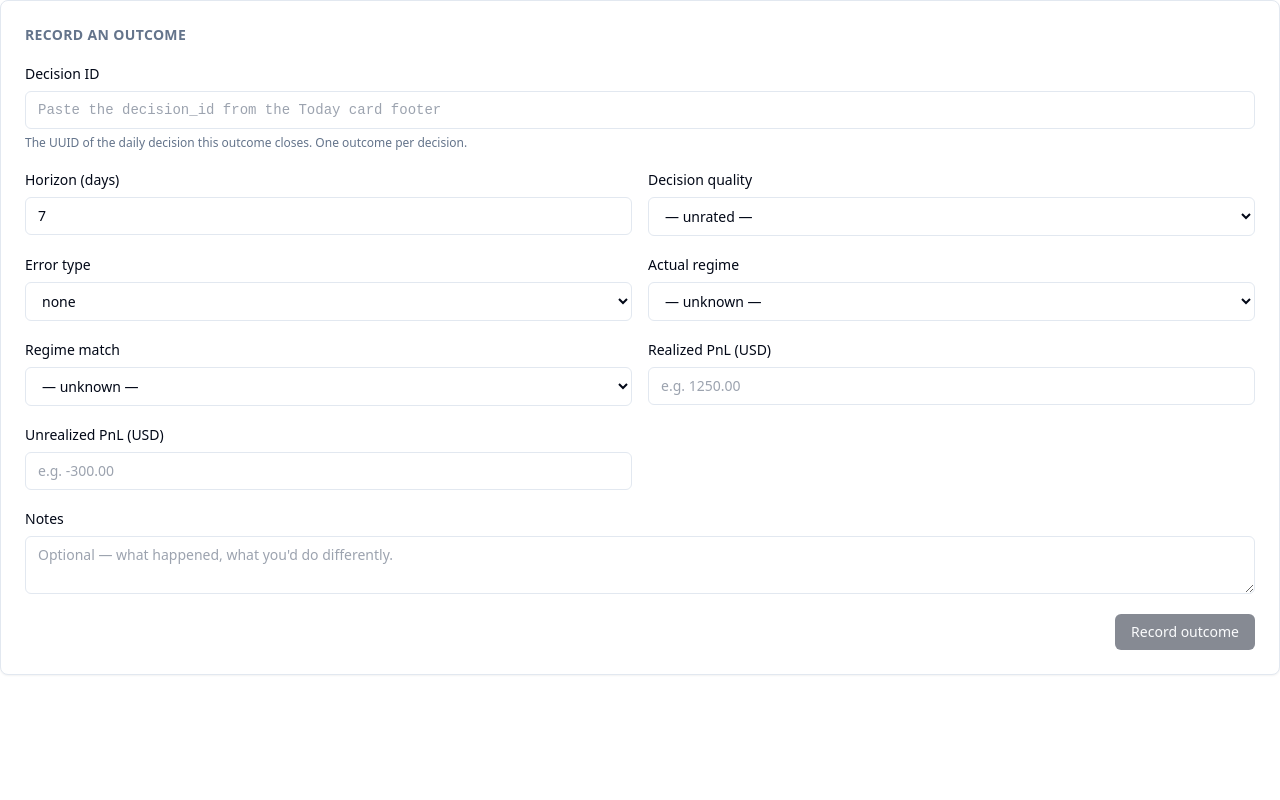
Test case: OutcomeEntryForm › surfaces the error message when the create fails
This screenshot has width=1280, height=800.
Type "aaaaaaaa-aaaa-aaaa-aaaa-aaaaaaaaaaaa" into the field with test id "field-new-daily_decision_id" at (640, 110), box [25,91,1255,129]
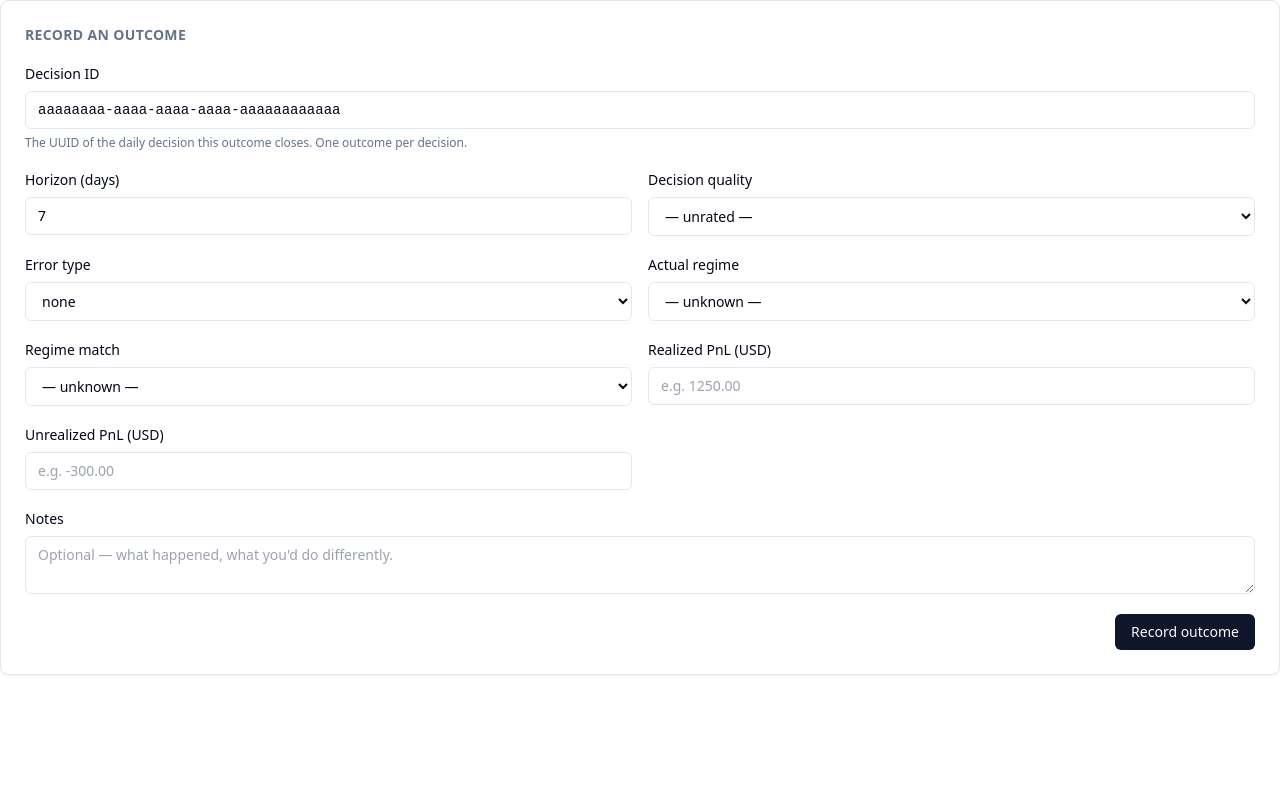
Submit the form with test id "outcome-entry-form"
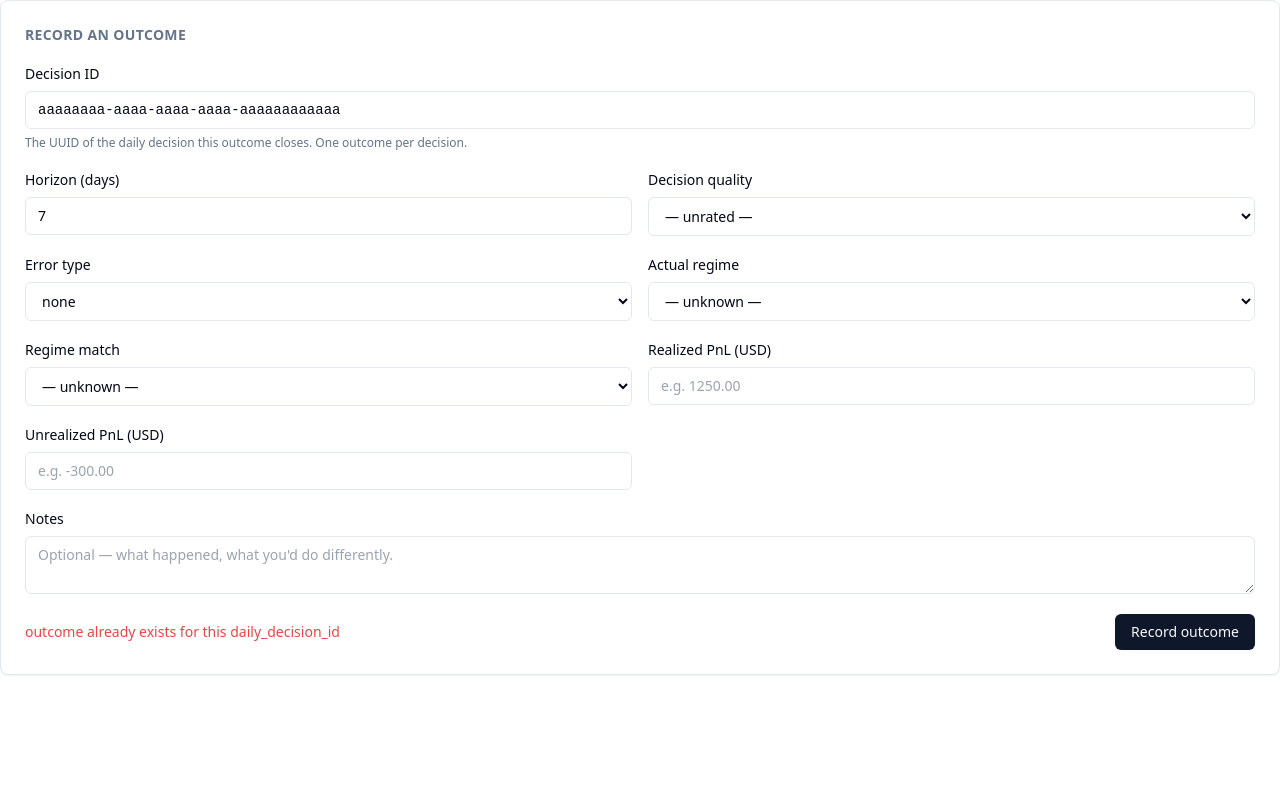
Now the text with test id "entry-status" reads "outcome already exists for this daily_decision_id", box [25,622,340,641]
